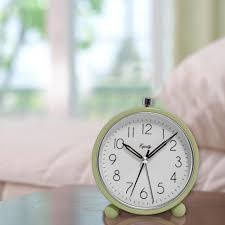alarm_clock: (93, 102, 200, 215)
